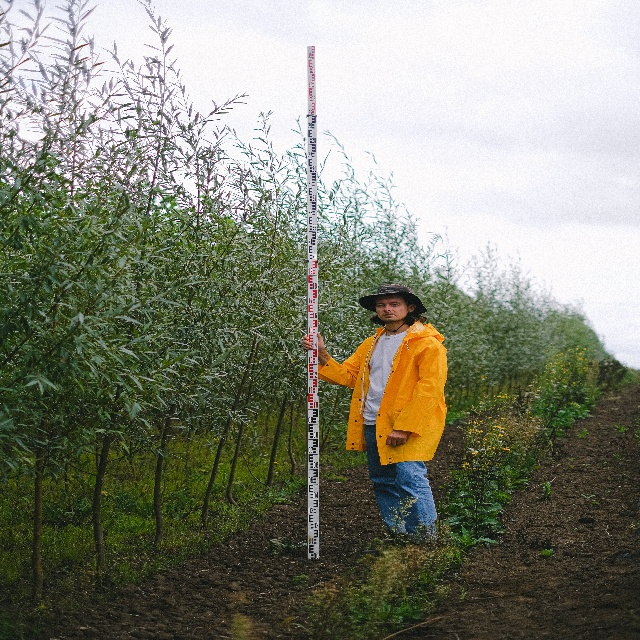Sin_guantes: (302, 331, 324, 360), (385, 427, 411, 446)
